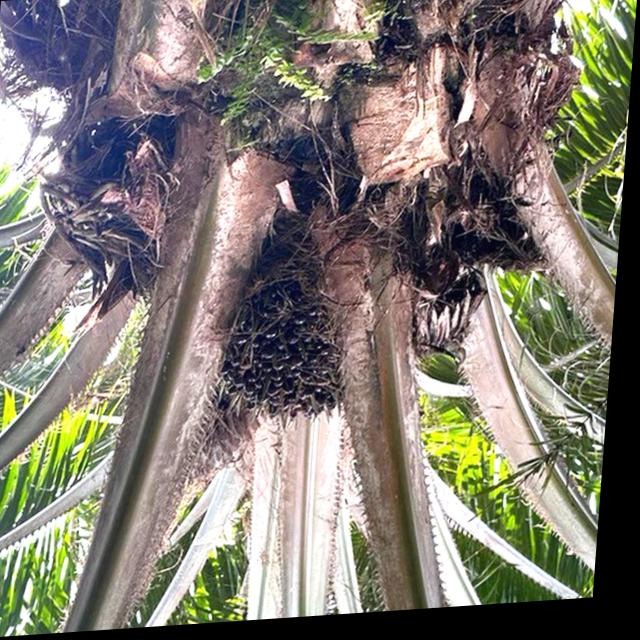almost: (208, 225, 372, 447)
